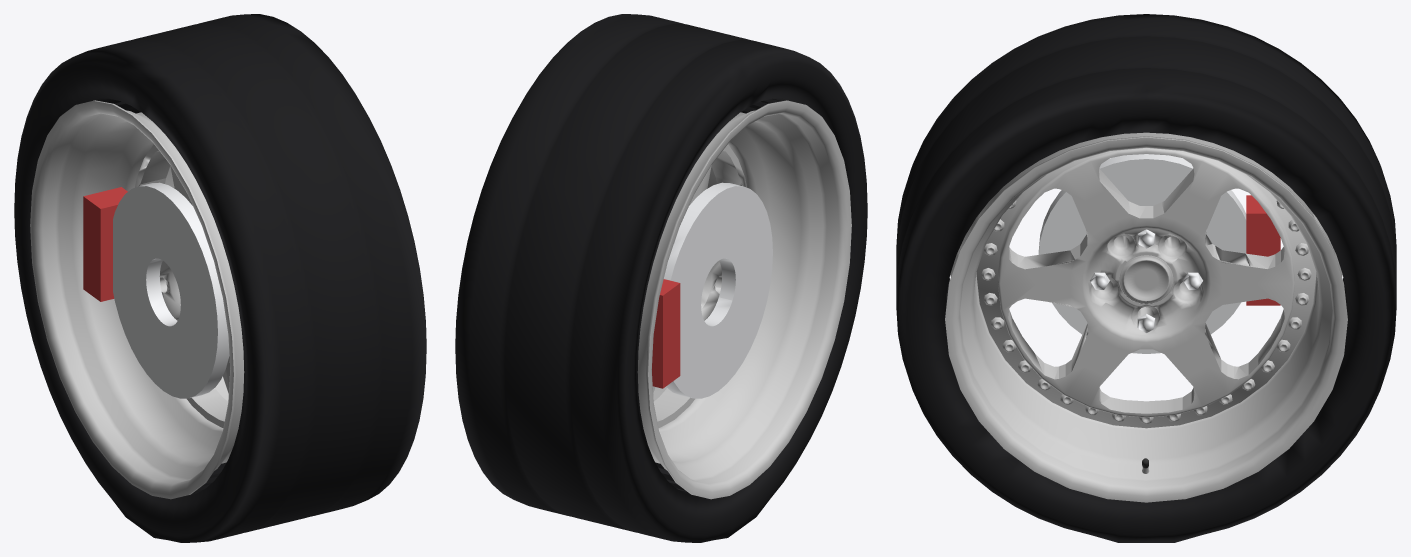
Rendered from WS01_meister_l1_full.glb.
3 views of the same model, side by side, from view 1: azimuth 30°, elevation 25°; view 2: azimuth 150°, elevation 25°; view 3: azimuth 270°, elevation 25° (orthographic).
Parts seen in each view (by area): view 1: MOD_ND_WS01_tyre, MOD_ND_WS01_src_0, MOD_ND_WS01_disc, MOD_ND_WS01_caliper, MOD_ND_WS01_src_5; view 2: MOD_ND_WS01_tyre, MOD_ND_WS01_src_0, MOD_ND_WS01_disc, MOD_ND_WS01_src_5, MOD_ND_WS01_caliper; view 3: MOD_ND_WS01_tyre, MOD_ND_WS01_src_5, MOD_ND_WS01_src_0, MOD_ND_WS01_disc, MOD_ND_WS01_src_1, MOD_ND_WS01_src_4, MOD_ND_WS01_caliper, MOD_ND_WS01_lugs.
Boxes of the visible parts, box(x1,y1,x2,y2) form: MOD_ND_WS01_tyre: box(14, 14, 426, 542); MOD_ND_WS01_src_0: box(30, 100, 244, 499); MOD_ND_WS01_disc: box(113, 182, 229, 398); MOD_ND_WS01_caliper: box(83, 187, 127, 301); MOD_ND_WS01_src_5: box(135, 144, 229, 427); MOD_ND_WS01_tyre: box(455, 14, 867, 542); MOD_ND_WS01_src_0: box(637, 100, 851, 499); MOD_ND_WS01_disc: box(664, 182, 772, 398); MOD_ND_WS01_src_5: box(652, 144, 746, 427); MOD_ND_WS01_caliper: box(652, 279, 680, 388); MOD_ND_WS01_tyre: box(896, 14, 1396, 542); MOD_ND_WS01_src_5: box(976, 148, 1316, 428); MOD_ND_WS01_src_0: box(945, 132, 1347, 502); MOD_ND_WS01_disc: box(1038, 154, 1246, 353); MOD_ND_WS01_src_1: box(981, 200, 1311, 424); MOD_ND_WS01_src_4: box(1119, 255, 1173, 303); MOD_ND_WS01_caliper: box(1246, 195, 1280, 305); MOD_ND_WS01_lugs: box(1090, 229, 1202, 332).
Bounding box in the file's own units: 0.2587 × 0.641 × 0.641.
